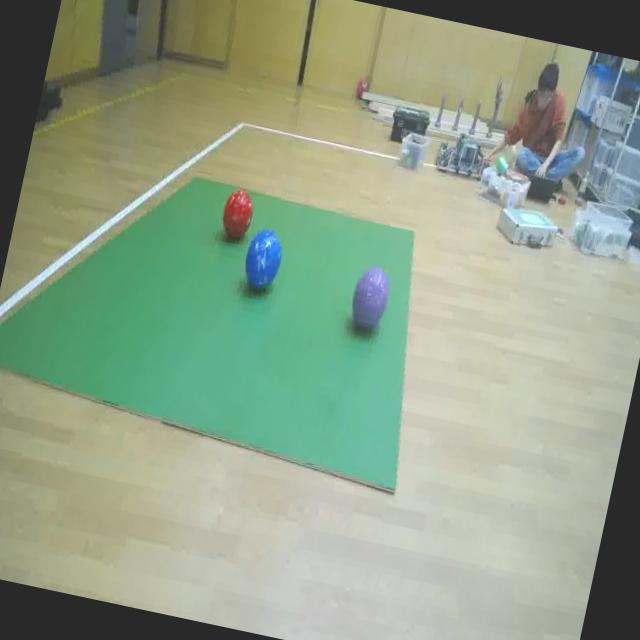blue_ball: (239, 225, 287, 296)
purple_ball: (348, 264, 393, 335)
red_ball: (219, 186, 257, 241)
